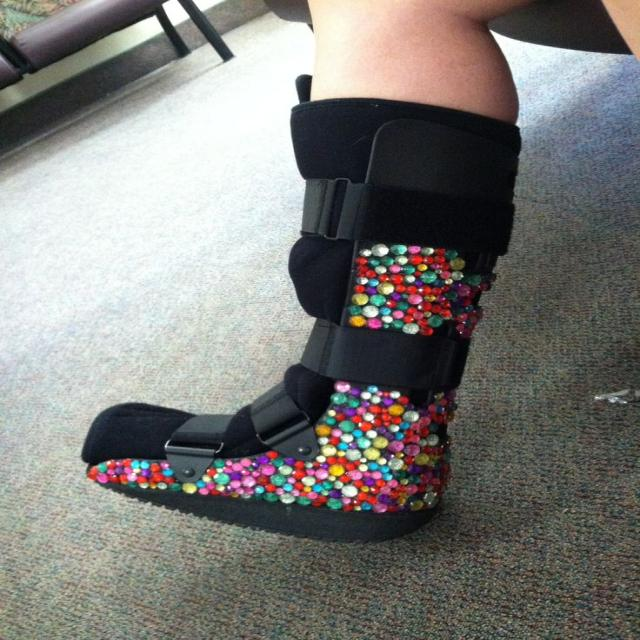boot: (70, 82, 532, 550)
